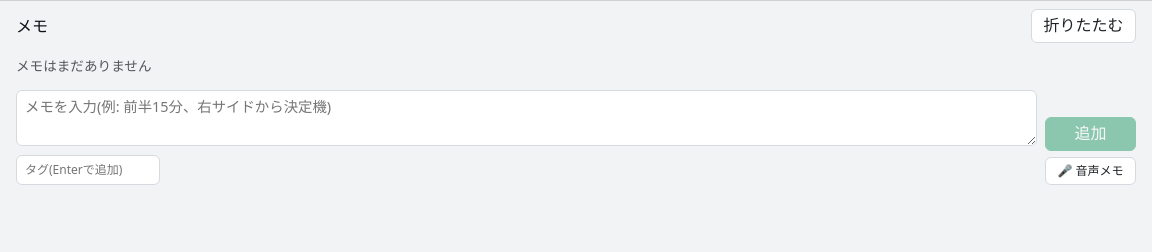
Test case: MemoArea 音声メモフロー › クォータ超過エラーはその旨を表示する
The image size is (1152, 252).
Expected: the text "メモはまだありません" is shown, x1=16 y1=56 x2=152 y2=75
Click the button "🎤 音声メモ".
click(1090, 171)  # box x1=1045 y1=157 x2=1136 y2=186
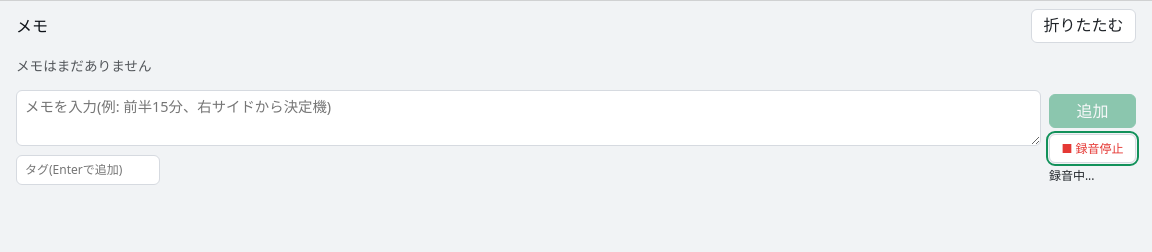
Click the button "■ 録音停止".
click(1092, 148)  # box x1=1049 y1=134 x2=1136 y2=163
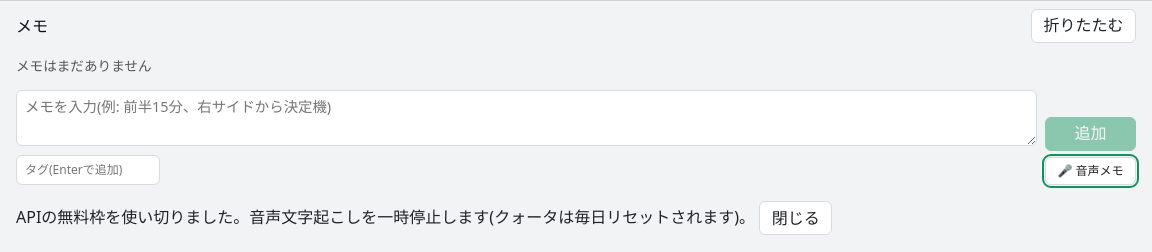
Now the message shows "無料枠を使い切りました", box x1=16 y1=207 x2=755 y2=229
